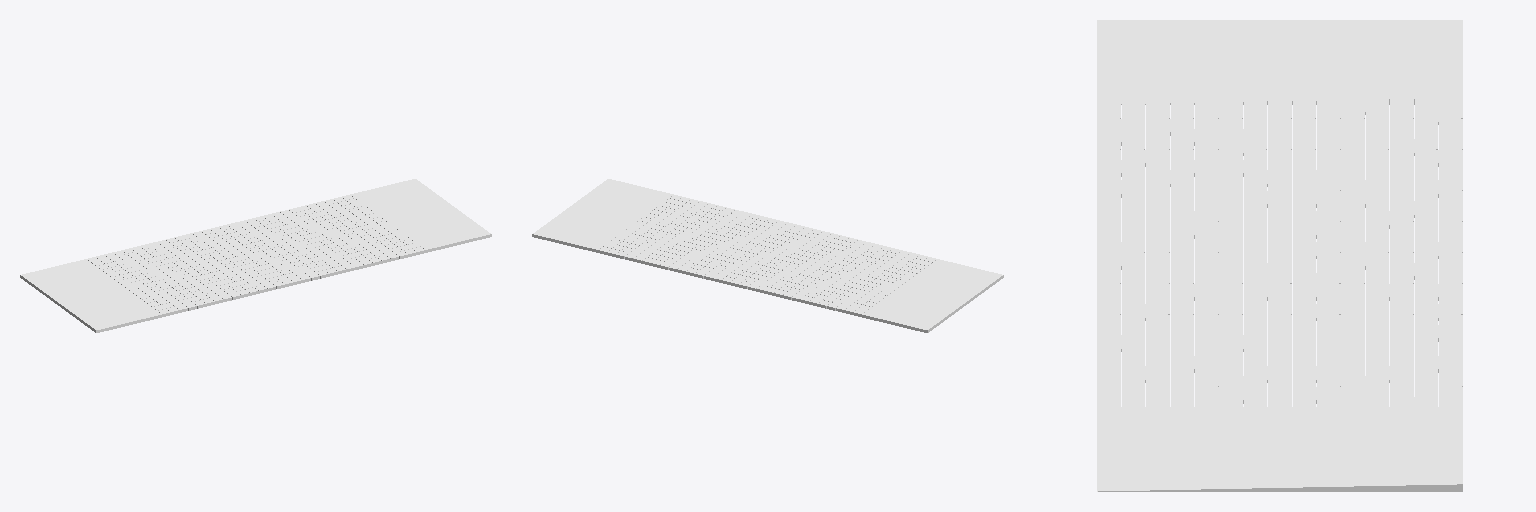
URDF robot description (big_rubbles):
<robot name="big_rubbles">
  <link name="base_link">
    <visual>
      <origin xyz="0 0 0" rpy="0 0 0" />
      <geometry>
        <mesh filename="package://hpp_environments/meshes/multicontact/daeun/big_rubbles.stl"/>
      </geometry>
      <material name="white">
        <color rgba="1 1 1 1"/>
      </material>
    </visual>
    <collision>
      <origin xyz="0 0 0" rpy="0 0 0" />
      <geometry>
        <mesh filename="package://hpp_environments/meshes/multicontact/daeun/big_rubbles.stl"/>
      </geometry>
    </collision>
  </link>
</robot>

--- Render facts (derived) ---
3 views of the same robot in one strip: view 1: azimuth 30°, elevation 25°; view 2: azimuth 150°, elevation 25°; view 3: azimuth 270°, elevation 25° (orthographic).
Model big_rubbles with 1 links and 0 joints (none), rooted at base_link, posed every joint at zero.
Links seen in each view (by area): view 1: base_link; view 2: base_link; view 3: base_link.
Link boxes in pixels (x1,y1,x2,y2): base_link: (20, 179, 491, 332); base_link: (532, 179, 1003, 332); base_link: (1097, 20, 1462, 491).
Bounding box of the posed robot: 13.95 × 4.64 × 0.1 m (x, y, z).
1 mesh visuals loaded from 1 distinct referenced files (1 binary STL).
